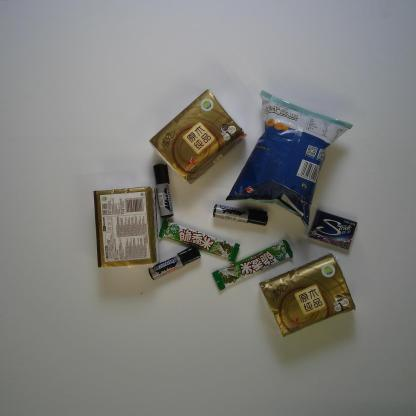Chocolate: (210, 237, 295, 292), (156, 218, 241, 264)
Gum: (306, 208, 360, 253)
Puffed Food: (221, 89, 354, 231)
Stationery: (147, 245, 201, 281), (150, 162, 175, 220), (212, 203, 270, 228)
Tissue: (148, 88, 246, 186), (260, 253, 358, 339), (92, 187, 158, 271)
